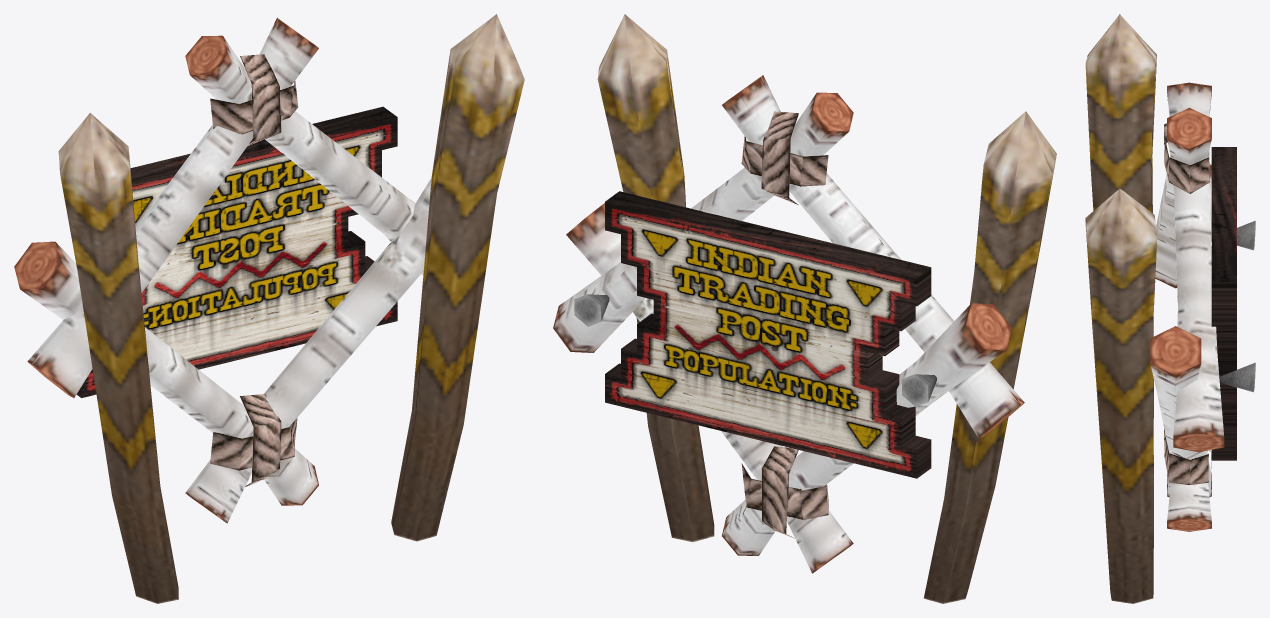
The picture shows the model from 3 angles, left to right: view 1: azimuth 30°, elevation 25°; view 2: azimuth 150°, elevation 25°; view 3: azimuth 270°, elevation 25°; orthographic projection. The views are drawn at different scales.
Visible parts, largest first — view 1: polySurface7, polySurface2, polySurface8, polySurface4, polySurface9, polySurface10, polySurface1, rope3, rope1; view 2: polySurface7, polySurface8, polySurface2, polySurface9, polySurface1, polySurface10, polySurface4, rope1, rope3, polySurface13, polySurface11; view 3: polySurface2, polySurface8, polySurface1, polySurface7, polySurface4, polySurface9, polySurface10, rope1, rope3, polySurface13, polySurface11.
Part boxes in pixels (bbox=[...]): polySurface7: bbox=[76, 106, 397, 397]; polySurface2: bbox=[391, 14, 524, 541]; polySurface8: bbox=[58, 113, 178, 603]; polySurface4: bbox=[185, 178, 431, 523]; polySurface9: bbox=[27, 18, 318, 397]; polySurface10: bbox=[14, 241, 318, 505]; polySurface1: bbox=[185, 35, 423, 275]; rope3: bbox=[210, 394, 297, 486]; rope1: bbox=[210, 54, 298, 146]; polySurface7: bbox=[605, 191, 931, 478]; polySurface8: bbox=[923, 111, 1056, 603]; polySurface2: bbox=[597, 14, 714, 541]; polySurface9: bbox=[722, 75, 1024, 438]; polySurface1: bbox=[553, 92, 853, 352]; polySurface10: bbox=[722, 303, 1011, 555]; polySurface4: bbox=[566, 203, 853, 573]; rope1: bbox=[741, 111, 828, 204]; rope3: bbox=[741, 446, 828, 538]; polySurface13: bbox=[574, 294, 609, 326]; polySurface11: bbox=[901, 374, 936, 406]; polySurface2: bbox=[1085, 188, 1157, 603]; polySurface8: bbox=[1085, 14, 1156, 417]; polySurface1: bbox=[1167, 82, 1224, 452]; polySurface7: bbox=[1211, 147, 1236, 460]; polySurface4: bbox=[1150, 326, 1211, 496]; polySurface9: bbox=[1155, 107, 1211, 288]; polySurface10: bbox=[1167, 164, 1211, 531]; rope1: bbox=[1164, 123, 1209, 193]; rope3: bbox=[1164, 428, 1211, 484]; polySurface13: bbox=[1219, 362, 1255, 392]; polySurface11: bbox=[1237, 220, 1255, 250].
Bounding box in the file's own units: 211 × 224 × 77.6.
11 materials, 11 textured.
